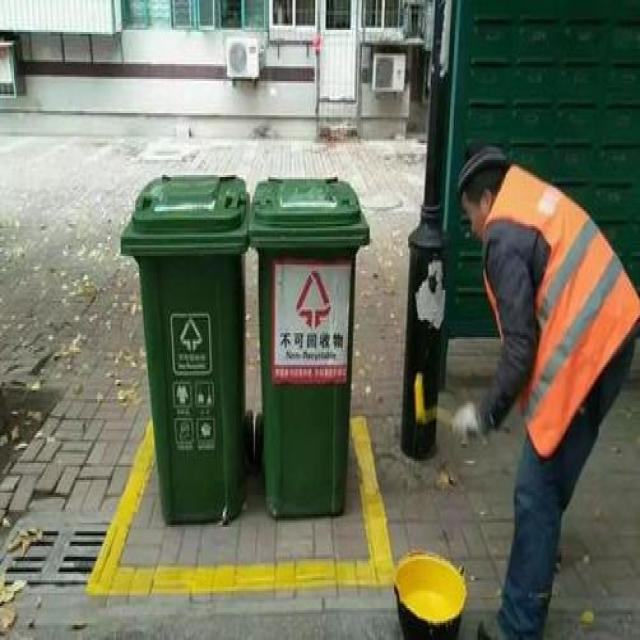garbage_bin: (119, 173, 248, 525), (248, 177, 368, 518)
